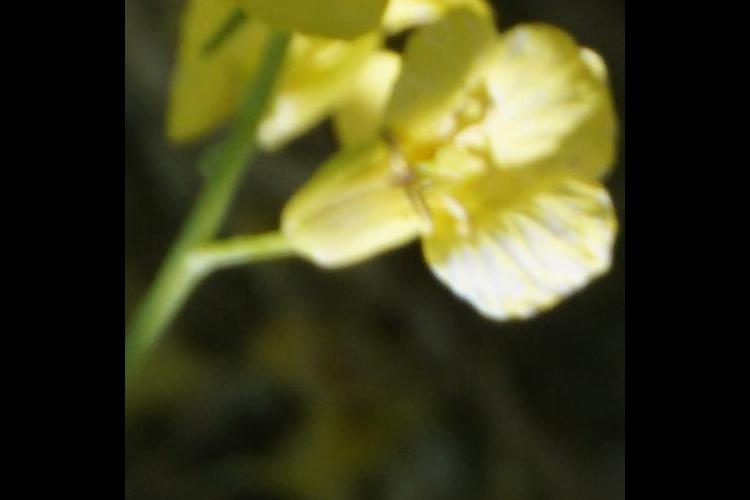yellow: (277, 1, 603, 334)
